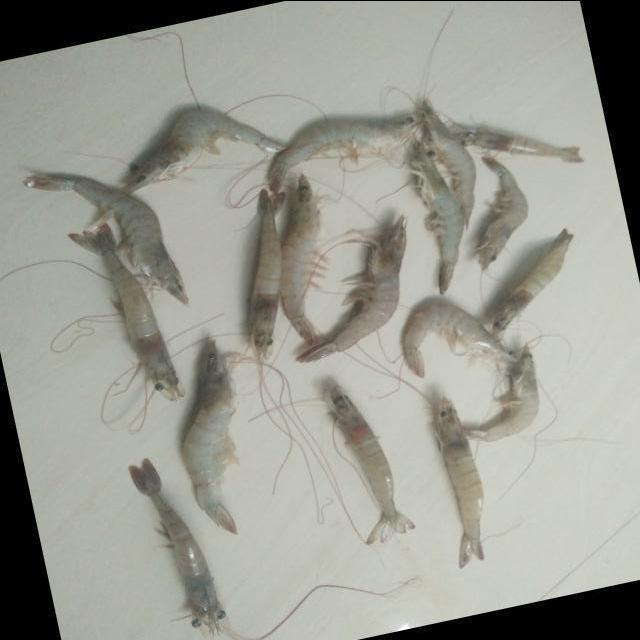shrimp: (23, 174, 187, 303), (69, 223, 183, 400), (129, 459, 228, 636), (296, 214, 407, 362), (324, 384, 415, 544), (123, 107, 285, 192), (268, 110, 420, 191), (182, 340, 237, 534), (492, 228, 574, 338), (404, 302, 517, 376), (435, 397, 484, 567), (414, 136, 465, 294), (463, 345, 540, 441), (421, 98, 476, 224), (280, 174, 320, 344), (478, 155, 529, 269), (452, 123, 585, 161)
